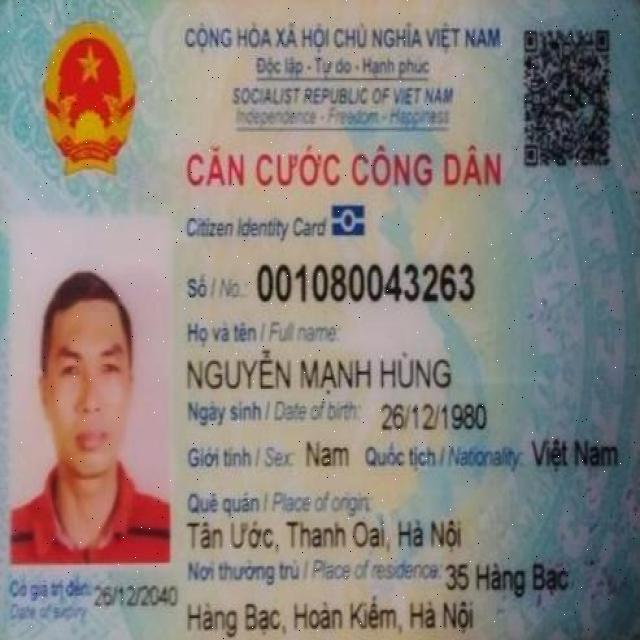current_place: (186, 597, 476, 639), (444, 562, 573, 599)
dob: (381, 401, 487, 434)
expire_date: (94, 581, 179, 609)
gender: (305, 436, 352, 471)
id: (256, 260, 477, 304)
name: (185, 347, 457, 394)
nationality: (531, 436, 622, 471)
origin_place: (185, 519, 470, 553)
